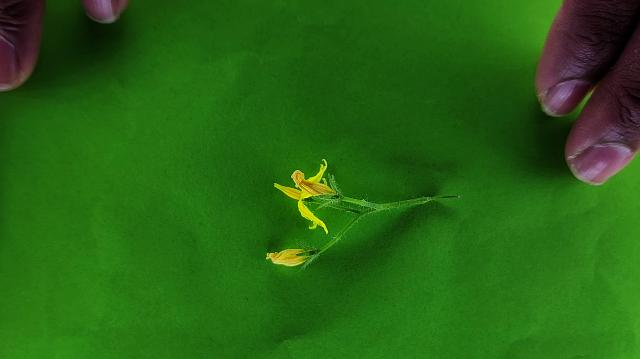Anthesis: (272, 160, 336, 236), (261, 243, 314, 279), (263, 241, 323, 268), (291, 170, 337, 199), (306, 158, 328, 185)
